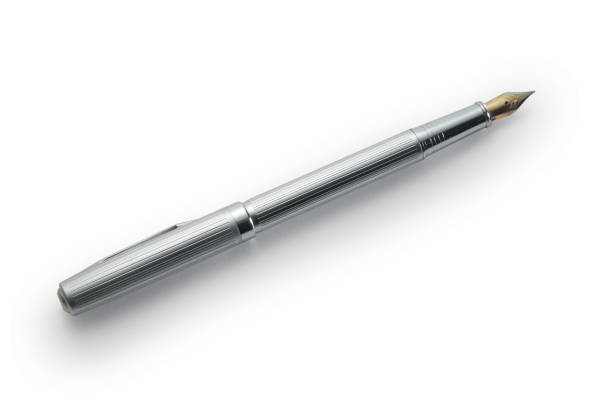pen: (37, 81, 541, 325)
